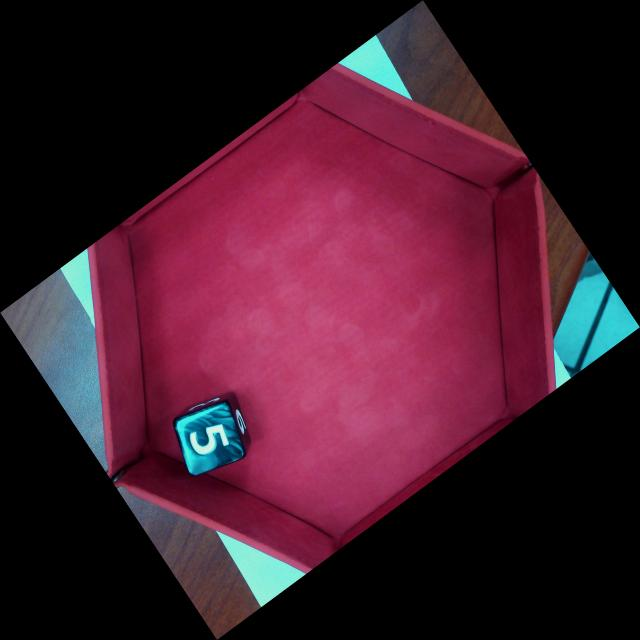dice: (171, 398, 249, 480)
